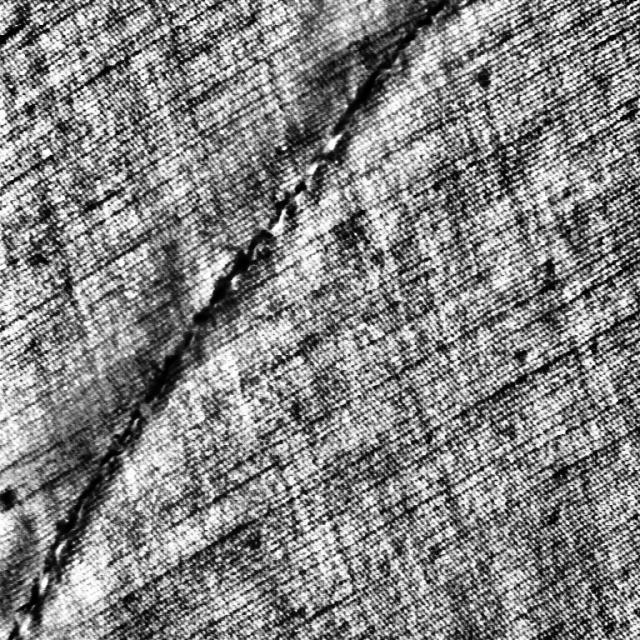gray stitch: (231, 124, 357, 255), (124, 314, 224, 437)
